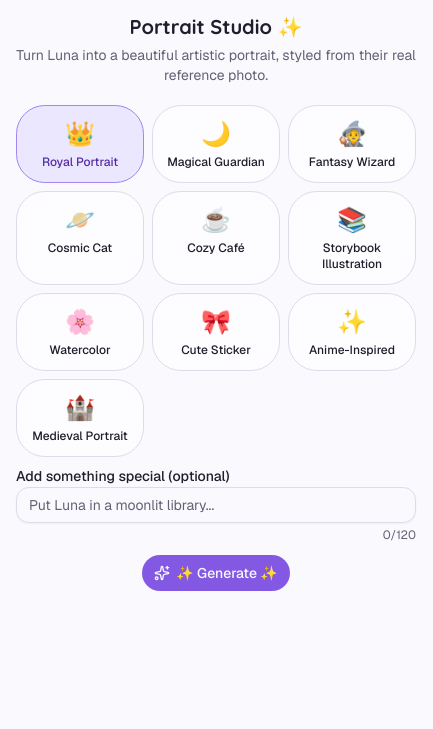
Test: PortraitStudio › shows a loading reveal while generating, then the new portrait
Click the button "✨ Generate ✨" at {"x": 216, "y": 573}, box [142,555,290,591]
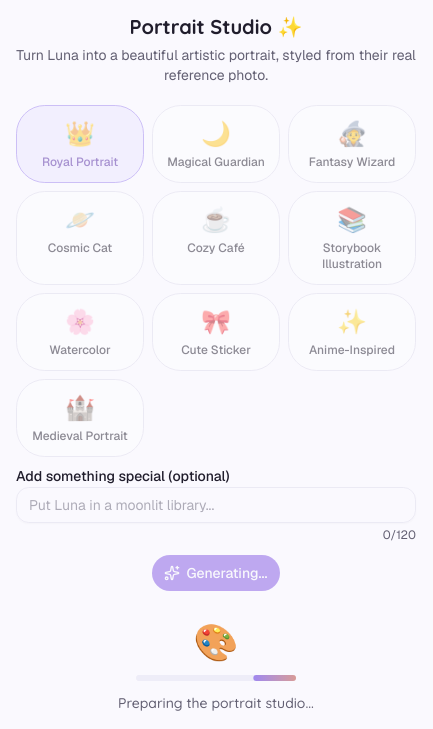
Expected: the text "Royal Portrait" is shown, [42,154,118,170]
Result: the message "🎨 Preparing the portrait studio..." is shown at [118,619,314,712]
